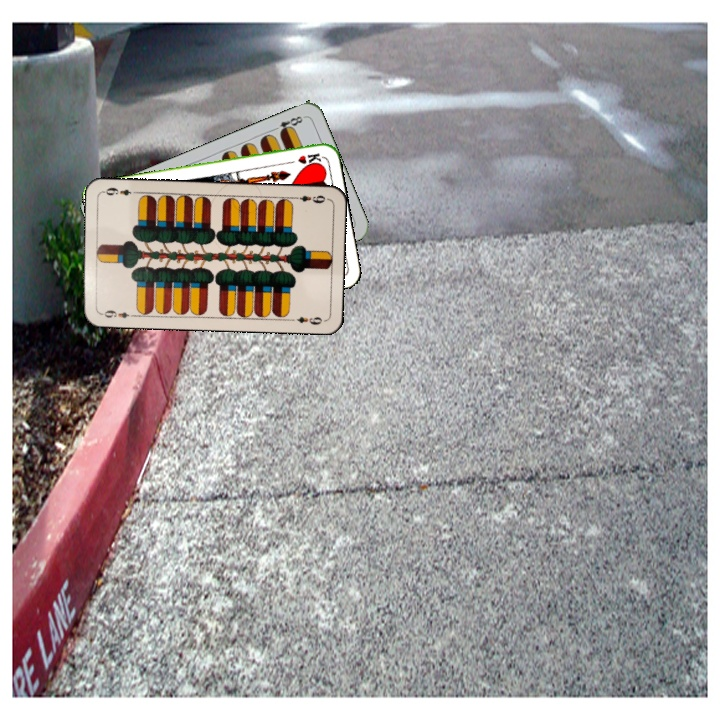E8: (268, 112, 307, 137)
E9: (97, 306, 137, 321), (289, 191, 328, 205)
HK: (283, 149, 323, 167)
